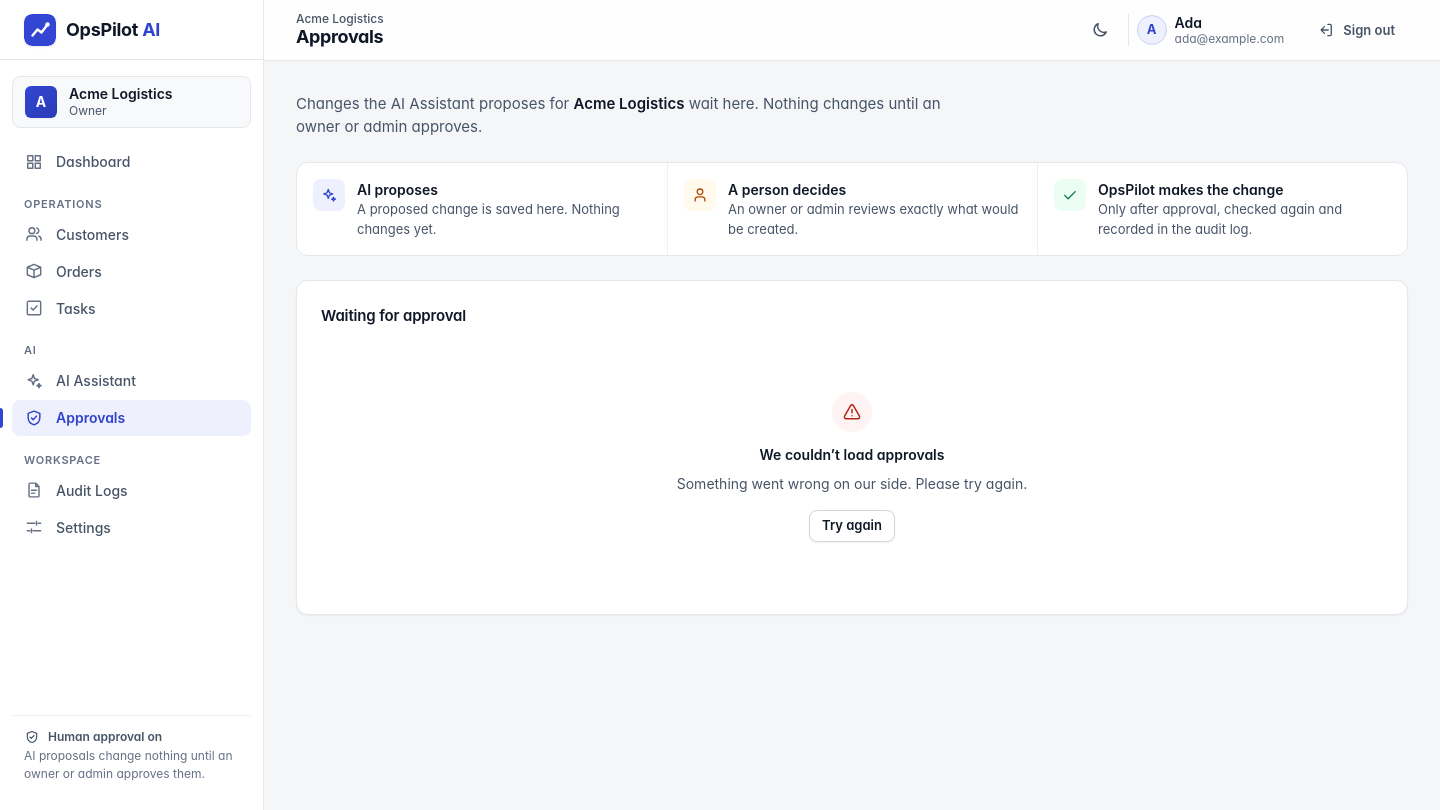
it: Approvals list › explains a failure to load and loads again on retry
The width and height of the screenshot is (1440, 810).
Expected: the heading "Approvals" is shown, [296,26,384,49]
Expected: the text "We couldn’t load approvals" is shown, [760,444,944,464]
Click the button "Try again" at (852, 526), box [809,510,895,542]
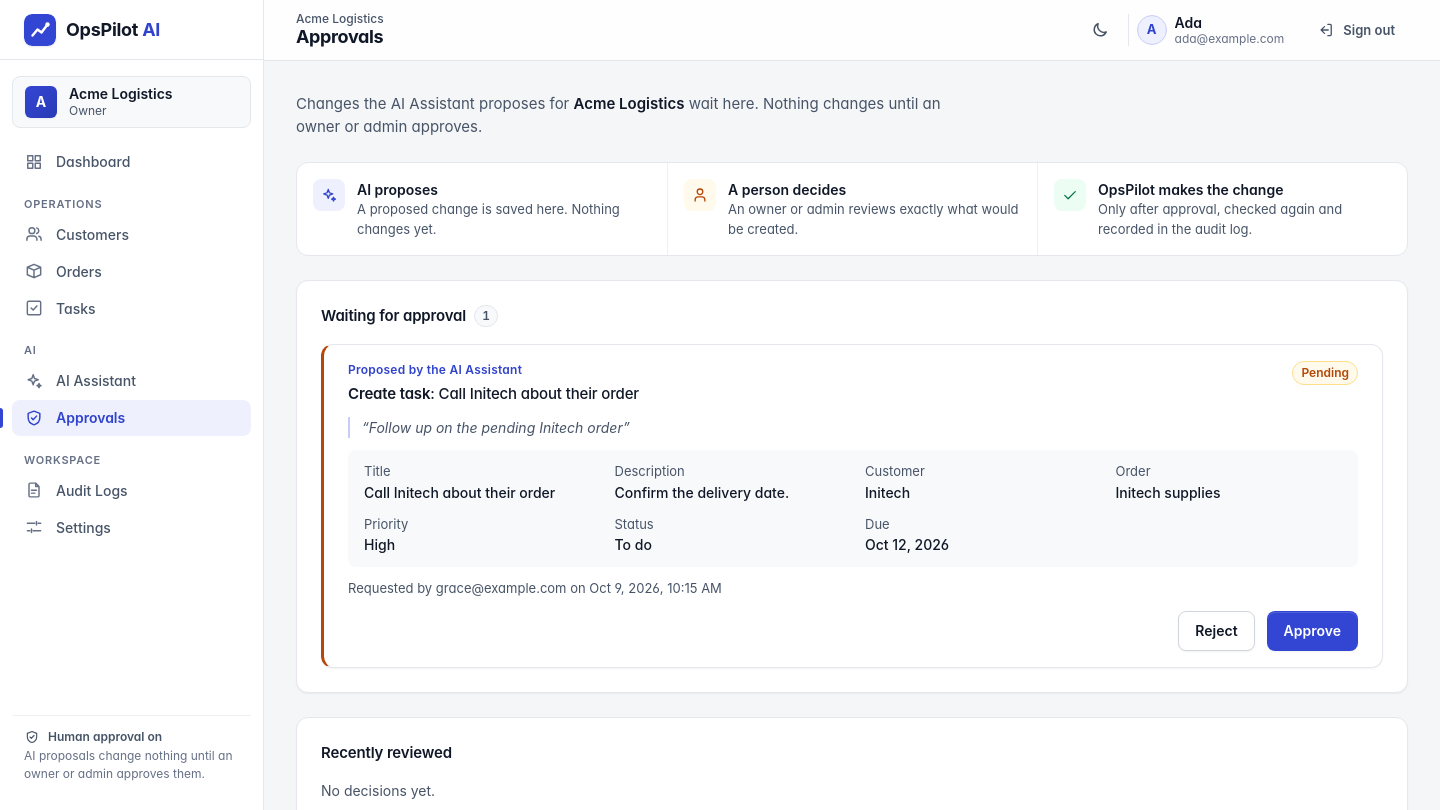
Now the element "Create task" is shown, box [321,344,1383,668]
